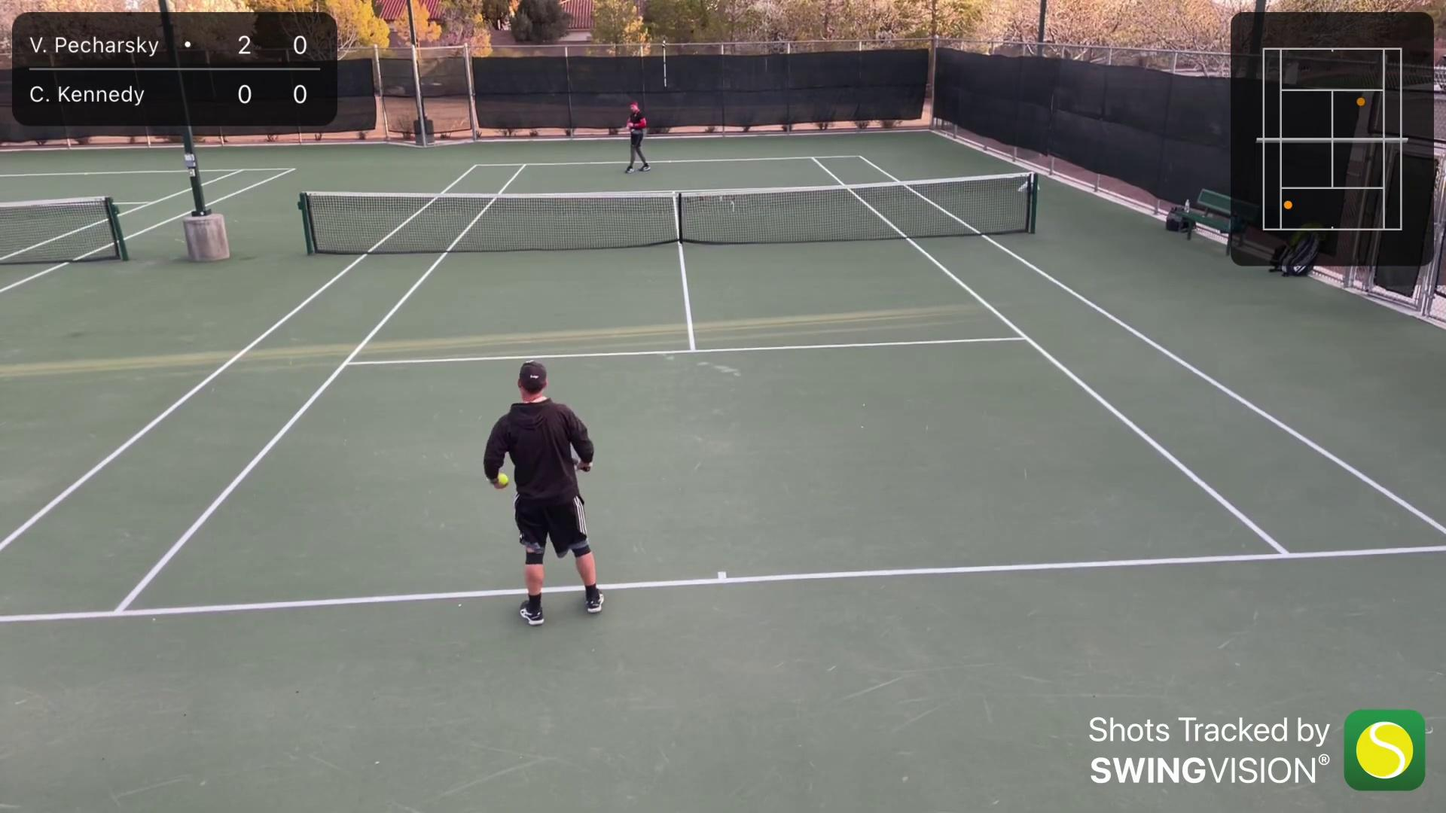ball: (497, 472, 509, 486), (216, 370, 221, 374)
